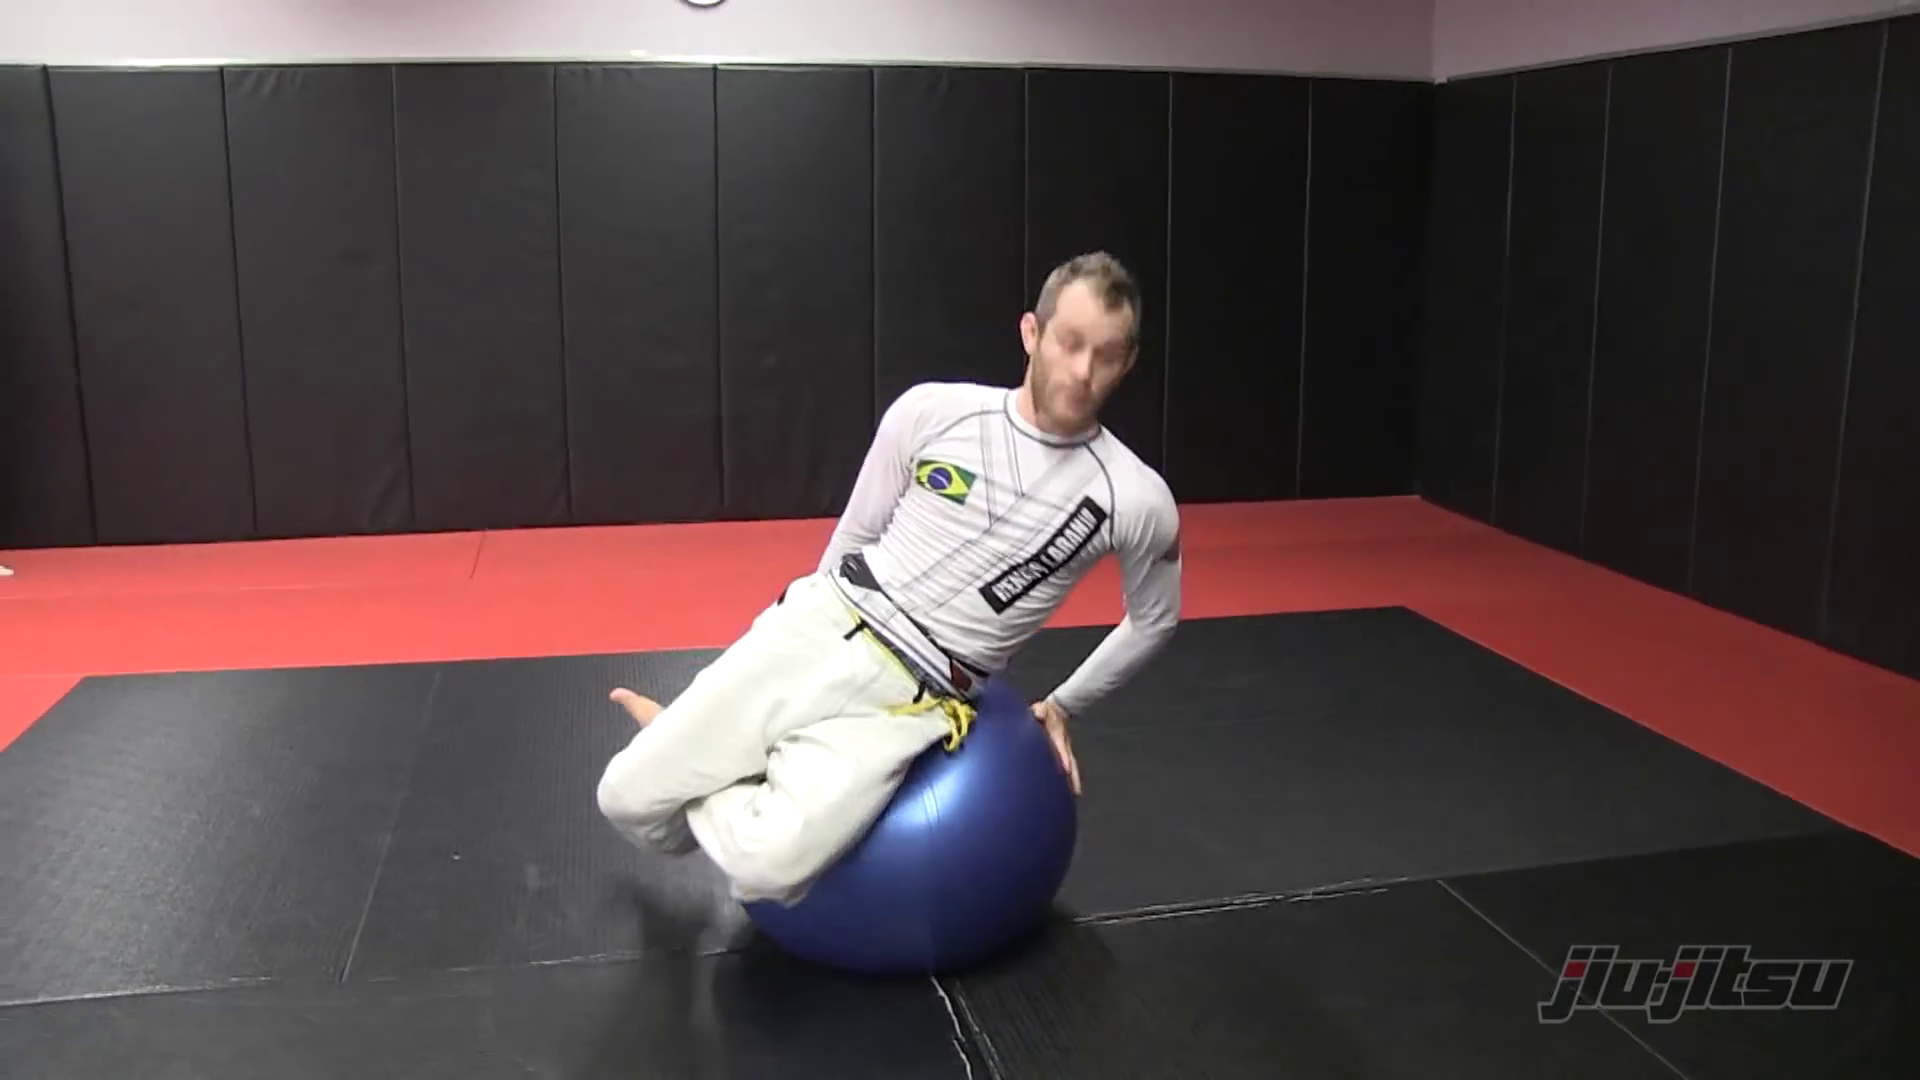yogaball: (711, 665, 1095, 989)
